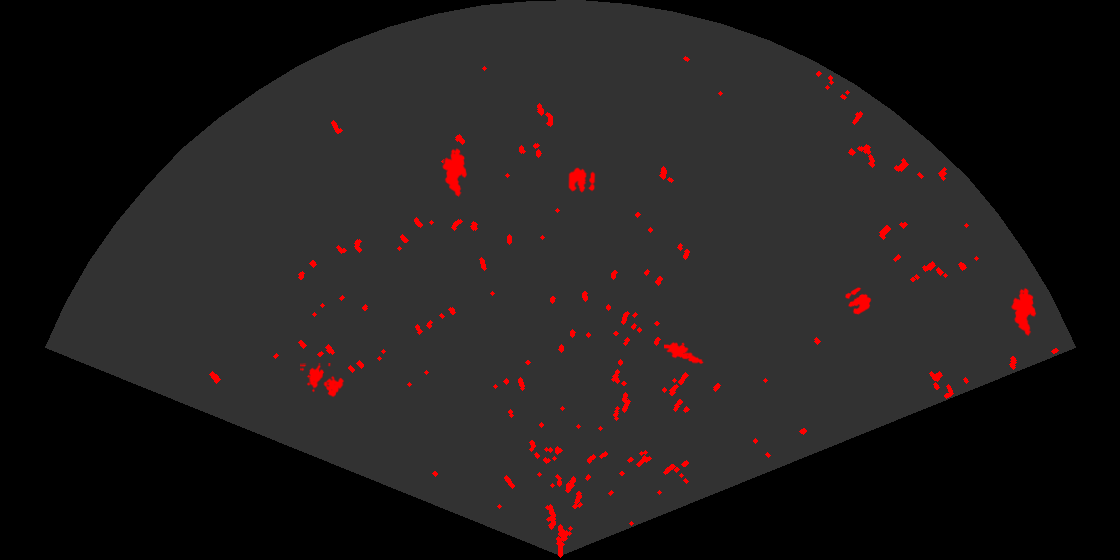AUV: (440, 146, 469, 199), (1009, 286, 1038, 338)
ball: (844, 286, 873, 316), (567, 166, 597, 194)
cage: (300, 363, 346, 399)
frogman: (664, 341, 704, 365)
